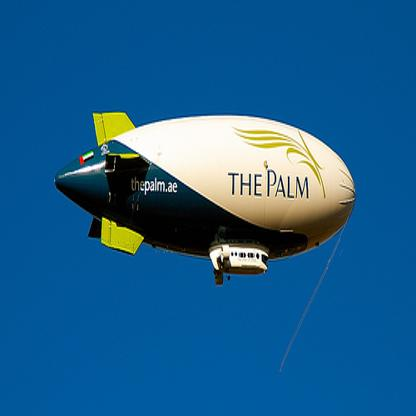Airship: (52, 109, 361, 279)
